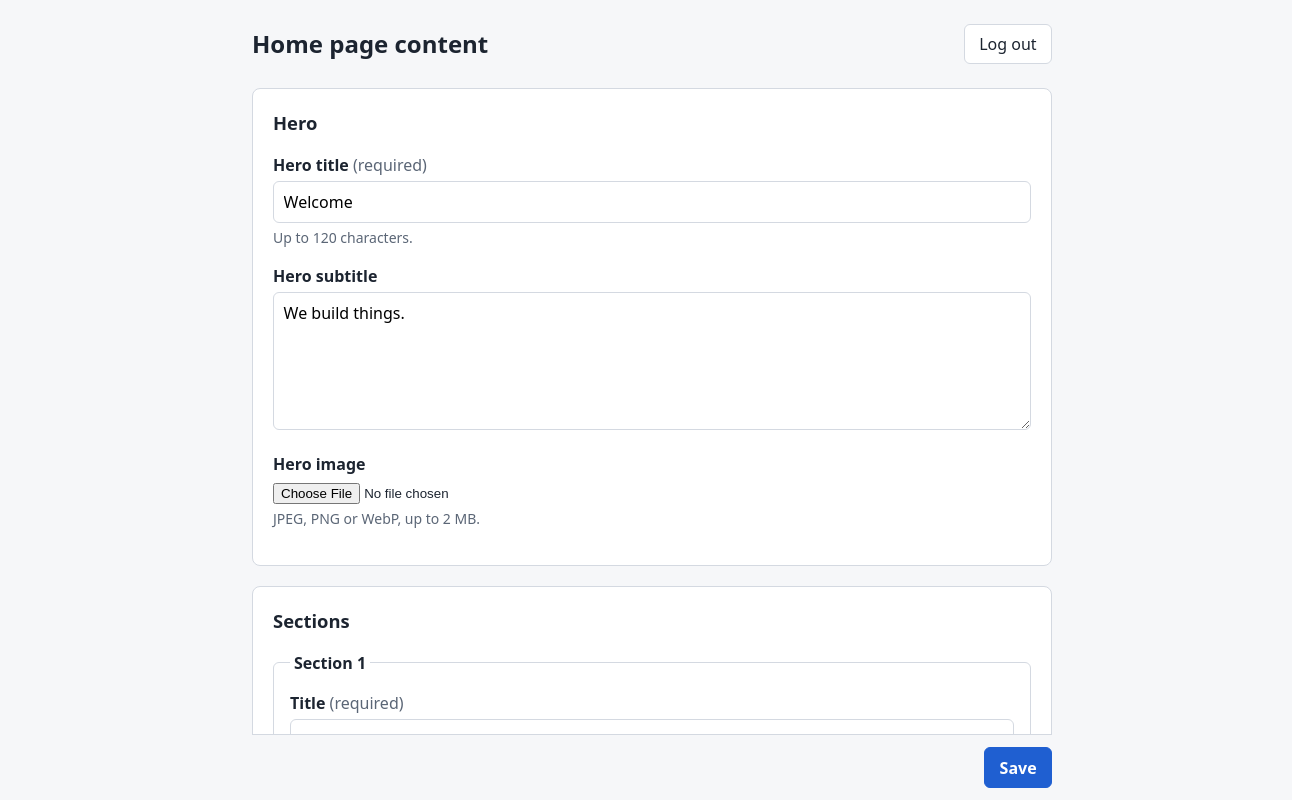
Test: Log out › server unreachable on logout → still logged out locally
Click the button "Log out".
click(1008, 44)  # box [964,24,1052,64]
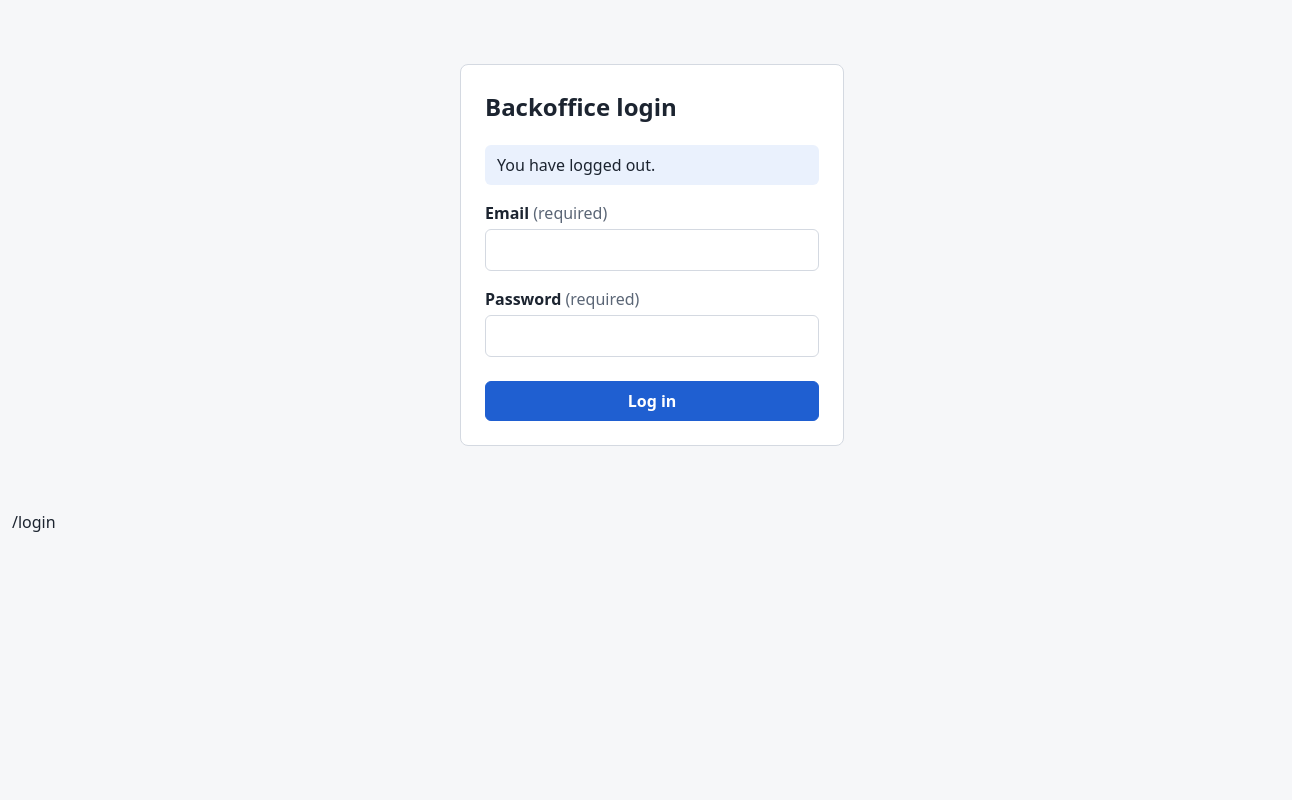
Expected: the text "You have logged out." is shown, [485,145,819,185]
Expected: the text with test id "path" reads "/login", [12,511,56,533]
